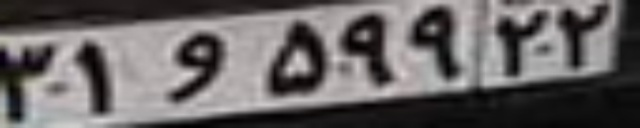1: (72, 39, 112, 116)
2: (498, 8, 545, 77), (559, 4, 606, 67)
3: (1, 40, 57, 122)
5: (266, 21, 327, 92)
9: (408, 5, 459, 78), (340, 13, 392, 83)
vav: (166, 32, 226, 102)
